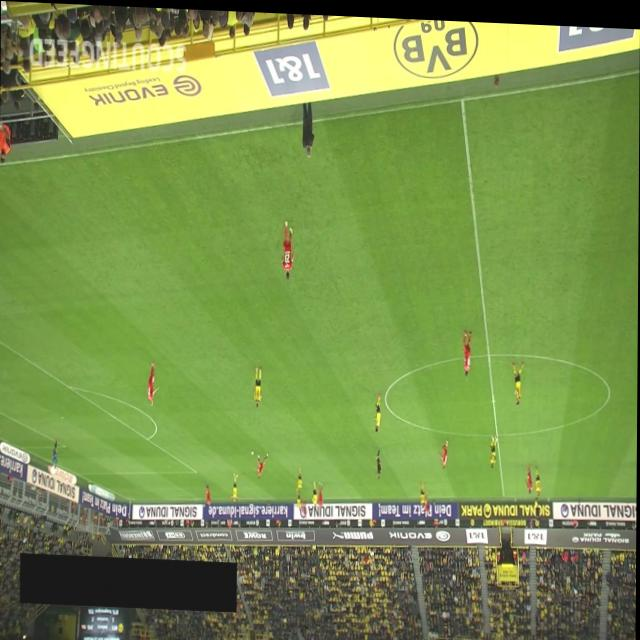goalkeeper: (52, 436, 58, 468)
player: (280, 216, 295, 277), (510, 356, 524, 400), (147, 359, 159, 404), (462, 324, 471, 373), (253, 448, 268, 476), (436, 434, 449, 465), (229, 469, 240, 501), (253, 362, 261, 405), (373, 389, 381, 428), (489, 430, 498, 464), (524, 458, 532, 488), (535, 459, 542, 492), (296, 462, 302, 491), (419, 477, 425, 505), (311, 477, 317, 505), (205, 479, 211, 506), (317, 478, 323, 505), (300, 493, 307, 516), (424, 486, 429, 511), (296, 485, 300, 506)
referee: (375, 445, 381, 475), (534, 490, 540, 520)
